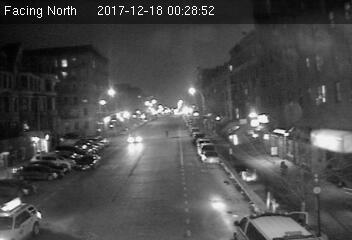car: (75, 153, 100, 169), (197, 150, 219, 165), (122, 134, 148, 144)
police: (227, 210, 309, 240)
